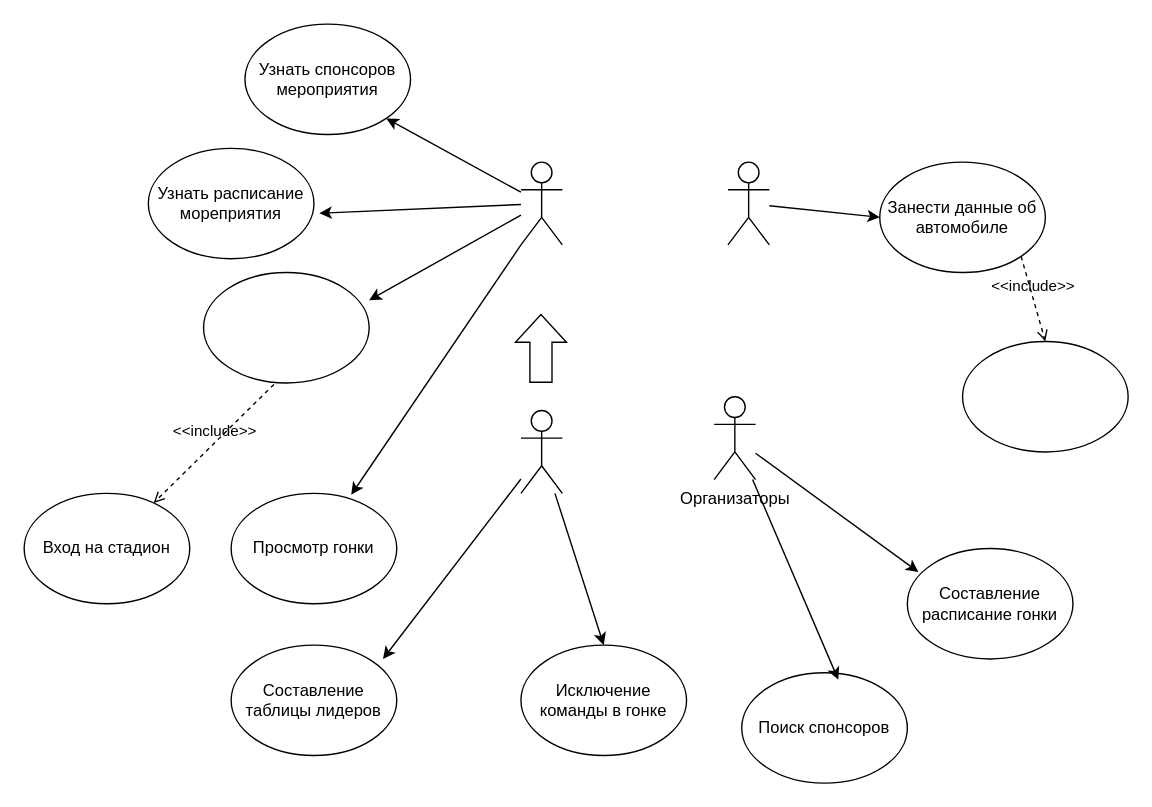
The diagram is 1152 pixels wide and 807 high, and some of its shapes have lost their labels. The shapes that lost their labels are listed below. From the top down, each one's box as (x1, y1, x2, y2) in pixels, then its label:
(520, 161, 562, 245): Пользователь
(727, 161, 769, 245): Механики
(202, 271, 369, 383): Покупка билета
(961, 340, 1128, 452): Внести серийный номер деталей
(520, 409, 562, 493): Судьи
